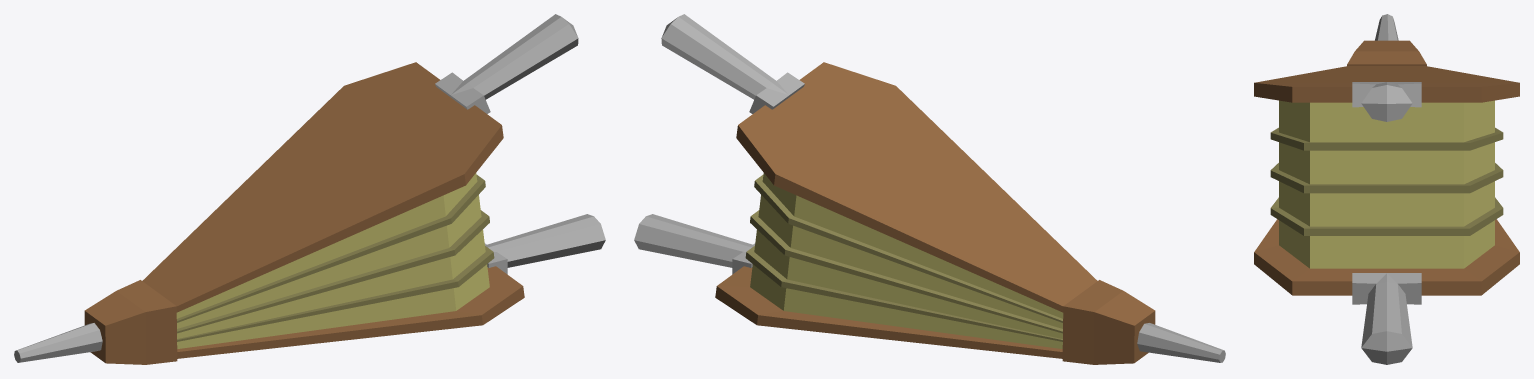
The model's file is Bellows_mat.fbx.
3 views of the same model, side by side, from view 1: azimuth 30°, elevation 25°; view 2: azimuth 150°, elevation 25°; view 3: azimuth 270°, elevation 25° (orthographic). The views are drawn at different scales.
Visible parts, largest first — view 1: Bellows_mat; view 2: Bellows_mat; view 3: Bellows_mat.
Part boxes in pixels (left/top/right/bottom): Bellows_mat: left=14, top=14, right=605, bottom=364; Bellows_mat: left=634, top=14, right=1225, bottom=364; Bellows_mat: left=1254, top=14, right=1519, bottom=364.
Size of the model in its own units: 1.49 by 0.5809 by 0.533.
